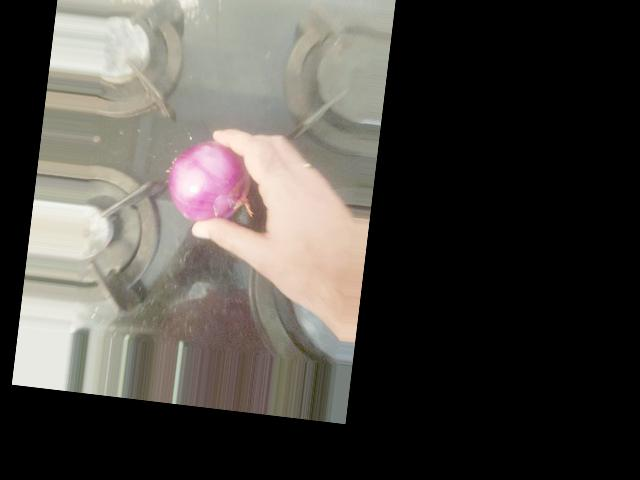onion: (122, 59, 222, 150)
